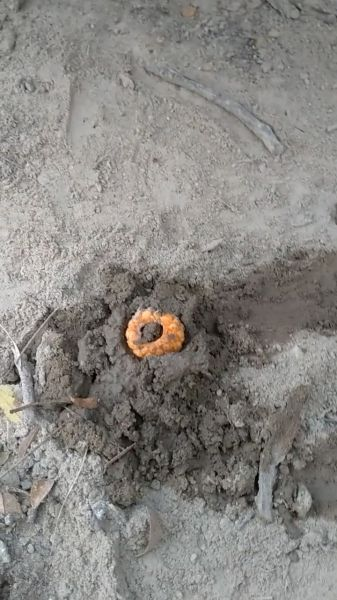eggs: (120, 308, 190, 356)
